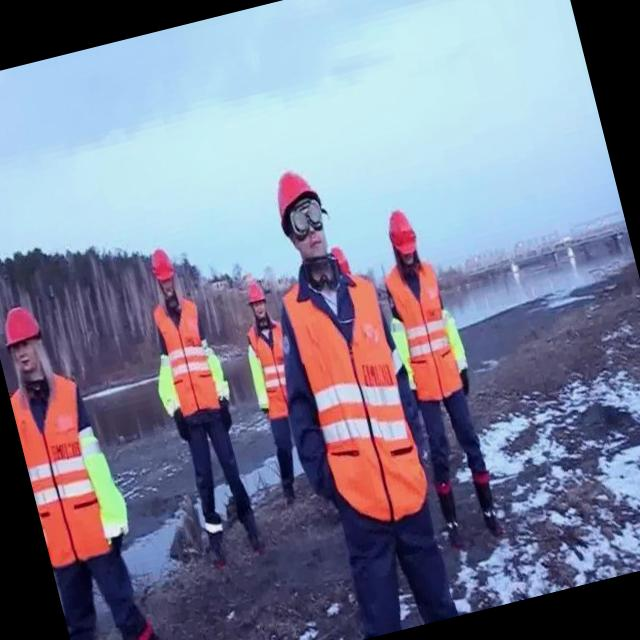vest: (283, 260, 434, 530), (6, 366, 120, 570), (382, 253, 466, 406), (149, 290, 225, 423), (243, 316, 304, 422)
